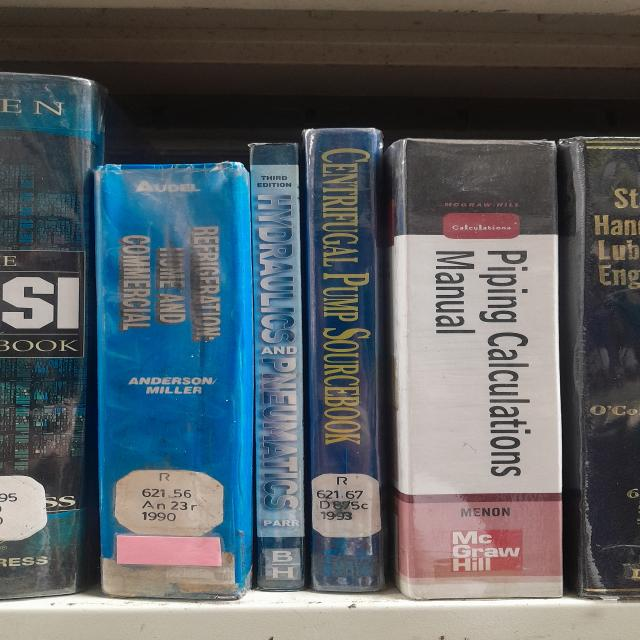book: (385, 139, 563, 600), (95, 161, 254, 599), (0, 78, 106, 599), (303, 129, 386, 591), (557, 138, 640, 600), (250, 144, 304, 590)
